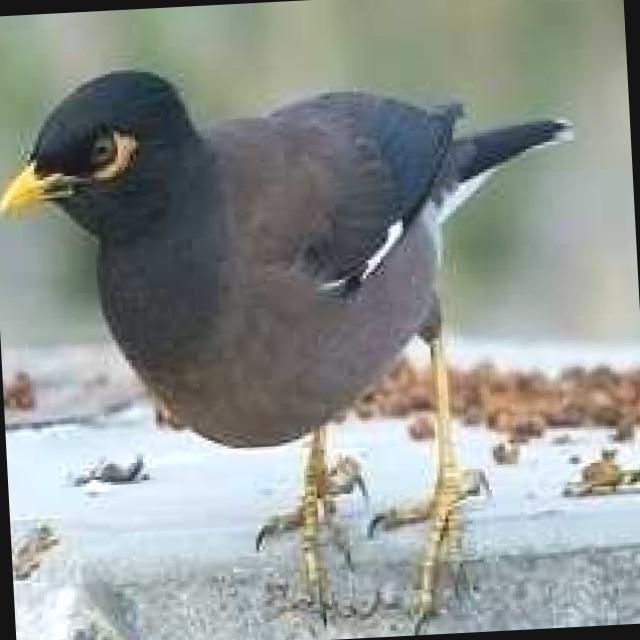bird: (0, 41, 602, 640)
